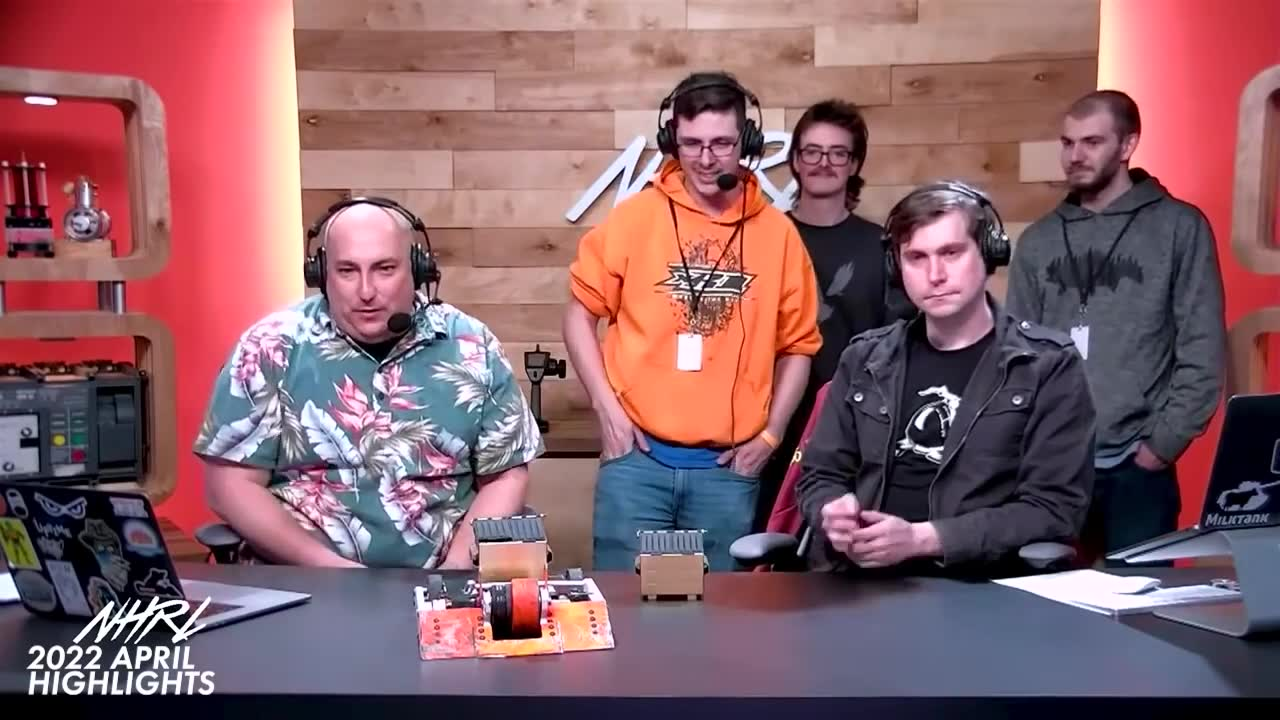combatbot: (412, 567, 622, 666)
